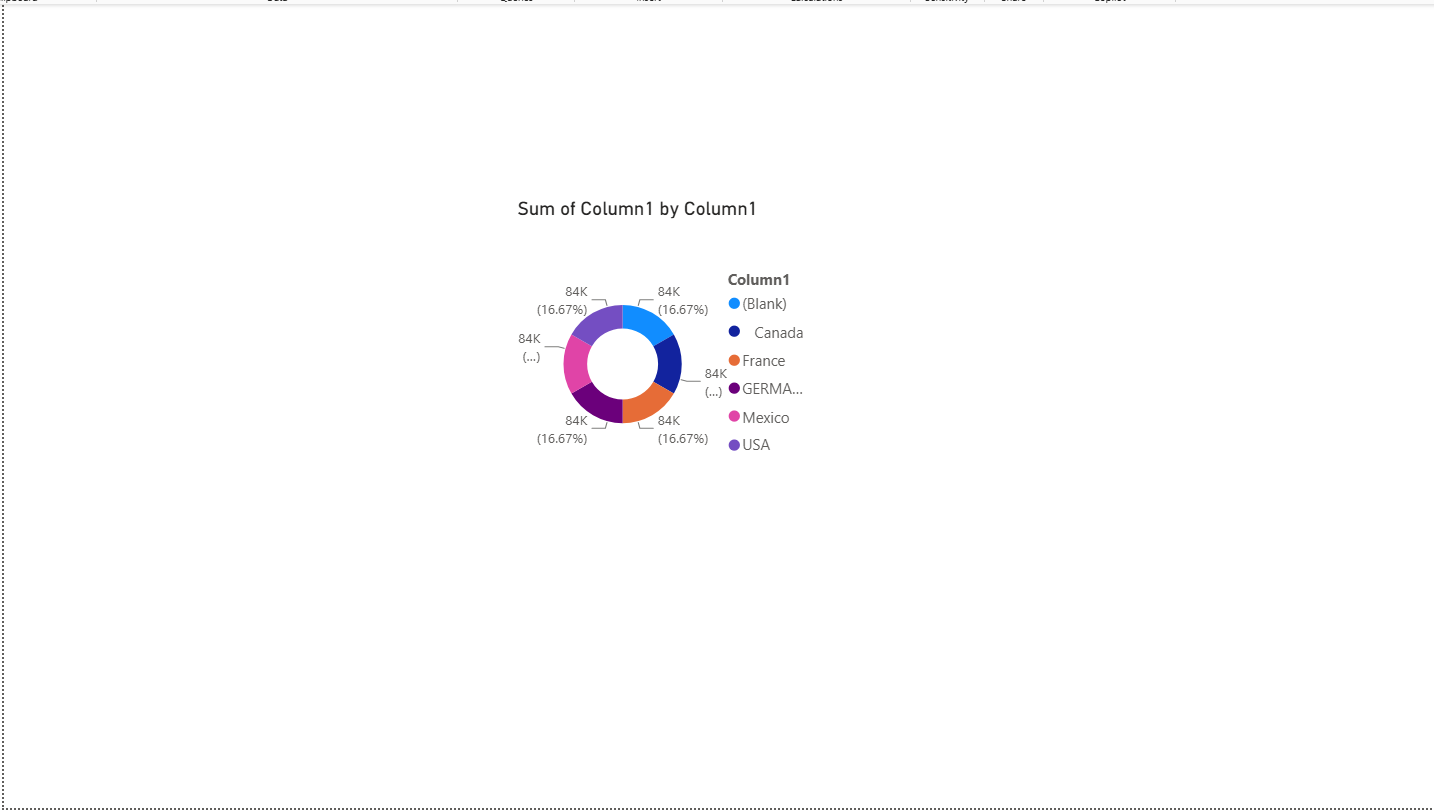

What the dashboard file says about the page in this screenshot:
{"tool":"powerbi","page":{"name":"Page 2","canvas":[1280,720],"ordinal":1},"visuals":[{"type":"donutChart","fields":{"Category":["Country.Column1"],"Y":["Sum(Sale_Price.Column1)"]},"box":[455.2,173.1,280.1,280.1],"z":0}]}

Visuals, with their boxes on the page's 1280x720 design canvas (x1, y1, x2, y2). These are canvas units, not pixel positions in the 1434x810 screenshot, which may show the page scaled, cropped or inside an application window:
donutChart - Country.Column1 x Sum(Sale_Price.Column1): (455,173,735,453)
